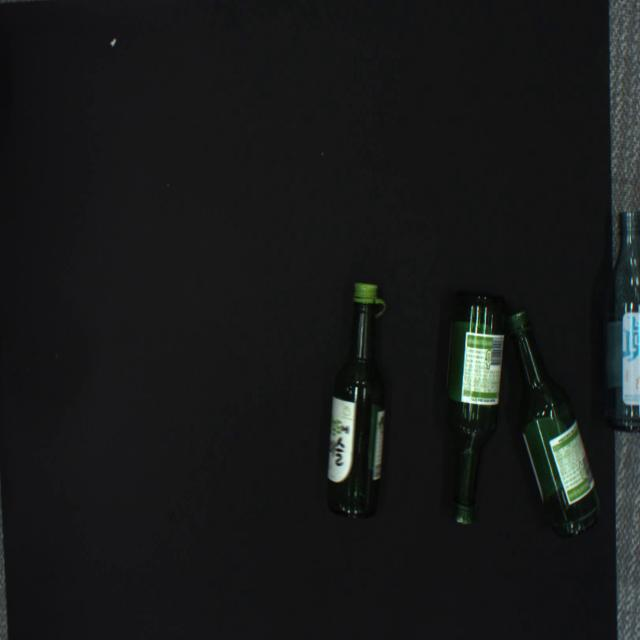soju-bottle: (507, 311, 602, 537), (444, 292, 507, 525), (327, 282, 387, 520), (600, 211, 640, 432)
